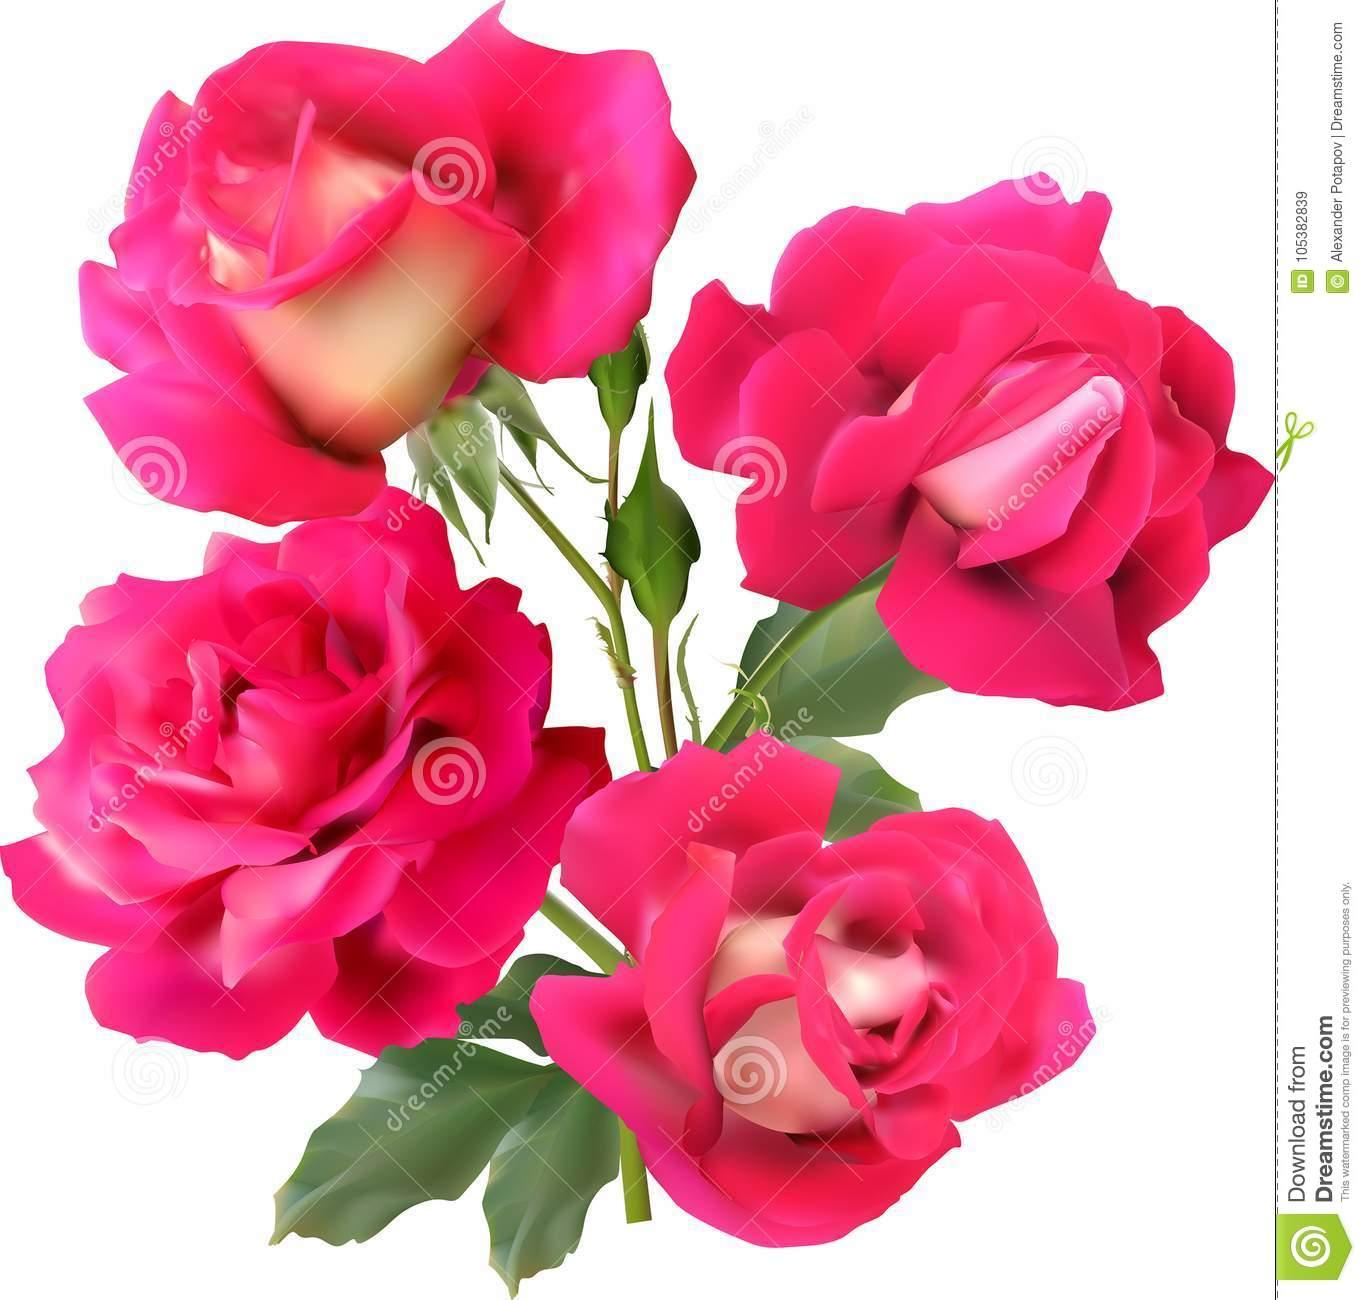Rose: (668, 111, 1267, 727), (83, 10, 695, 520), (0, 543, 613, 1050), (568, 698, 1107, 1246)
